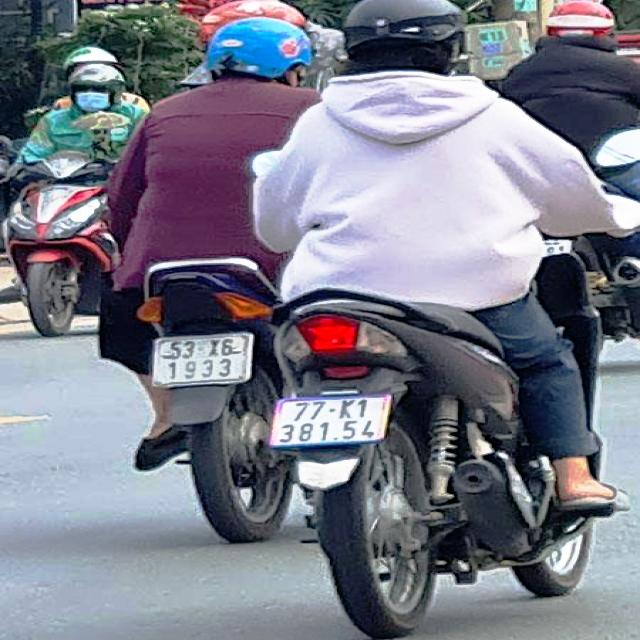license_plate: (271, 397, 392, 449), (156, 335, 254, 390)
